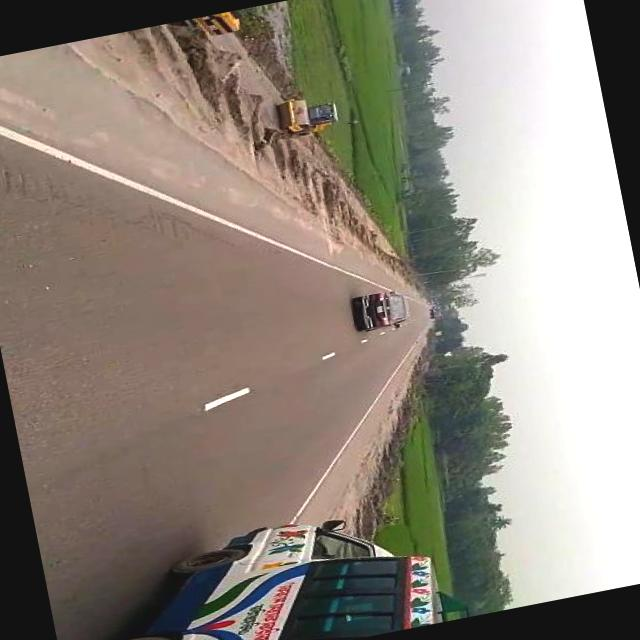bus: (51, 493, 470, 640)
car: (352, 287, 414, 337)
